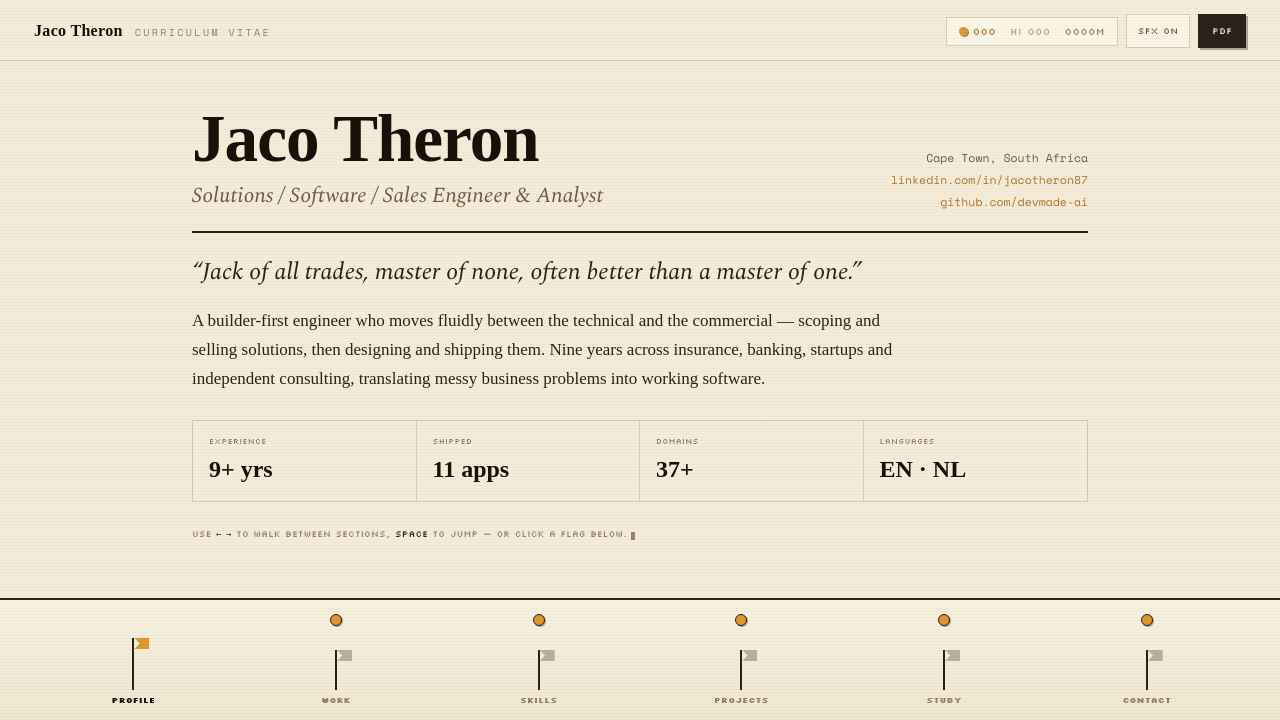
Scenario: LivingCv › game keys never take keystrokes from the contact form › keeps a half-written message when the visitor walks away and comes back
The image size is (1280, 720).
Click the button "Contact". click: x=1147, y=670
box: [1045,650,1248,690]
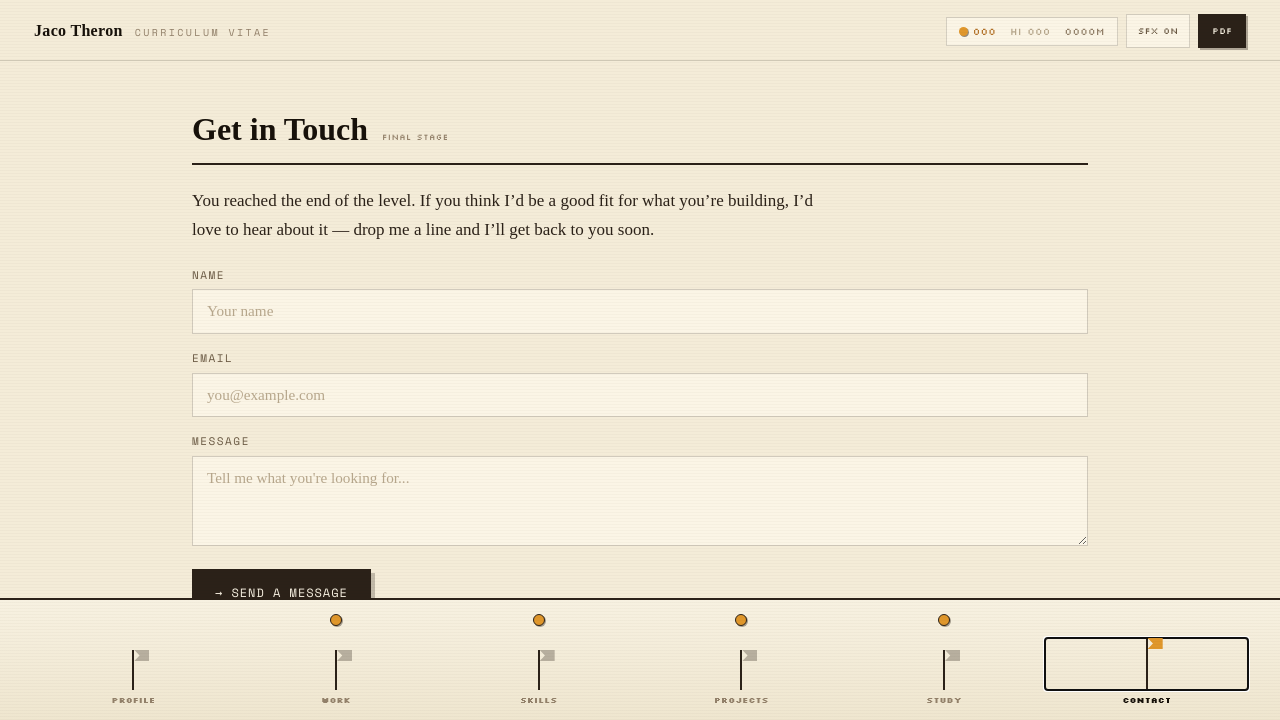
Type "Half a thought" into the text box labelled "Message". click: x=640, y=501
box: [192,456,1088,546]
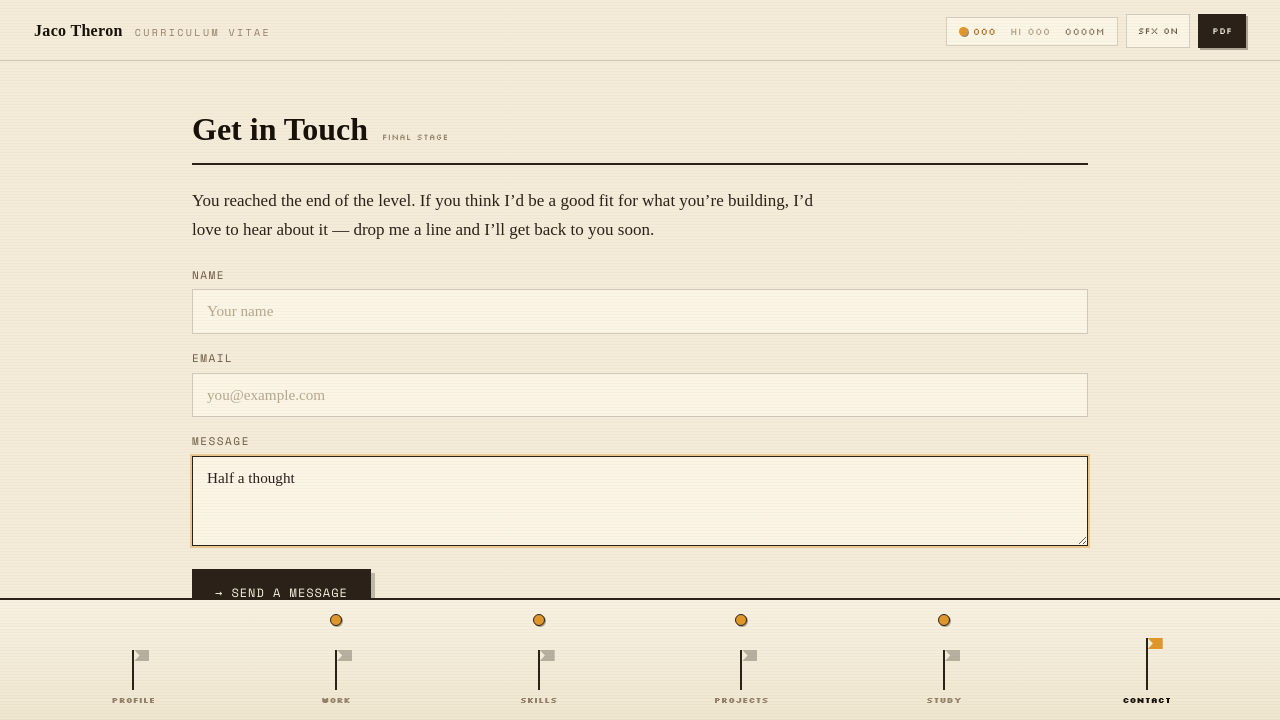
Click the button "Work". click: x=336, y=670
box: [235,650,437,690]
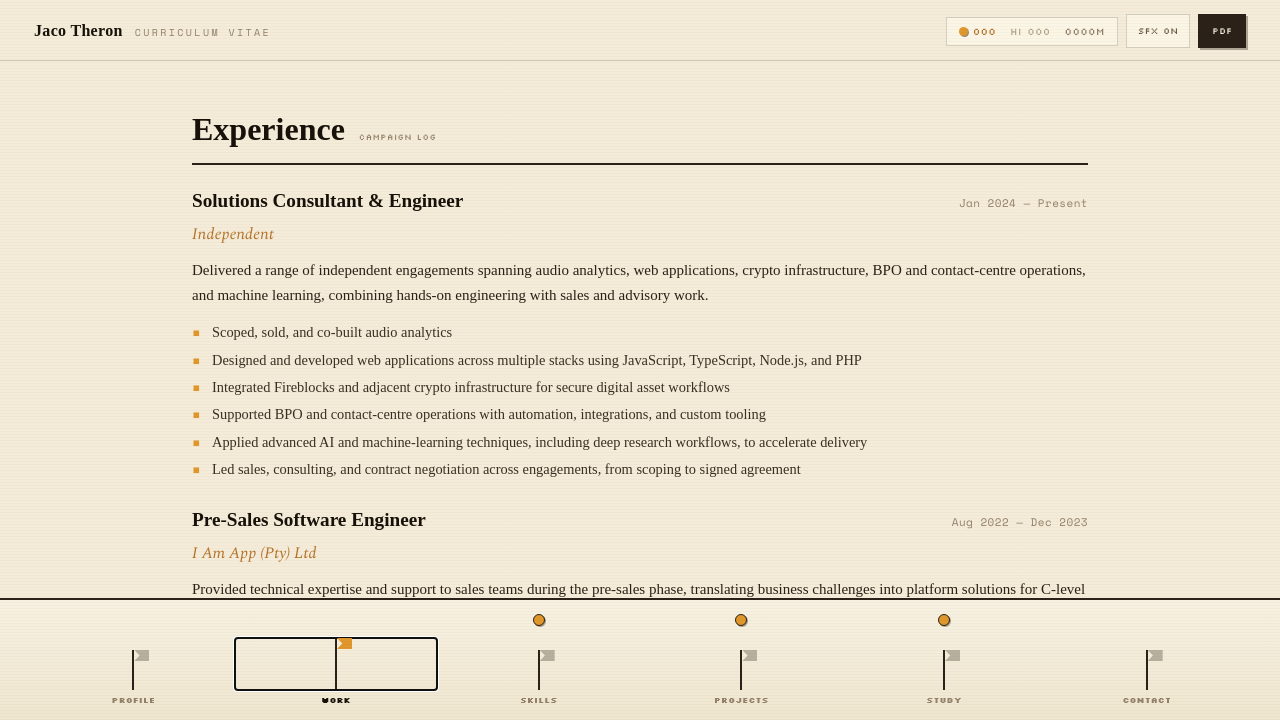
Expected: the label labelled "Message" is gone
Click the button "Contact". click: x=1147, y=670
box: [1045,650,1248,690]
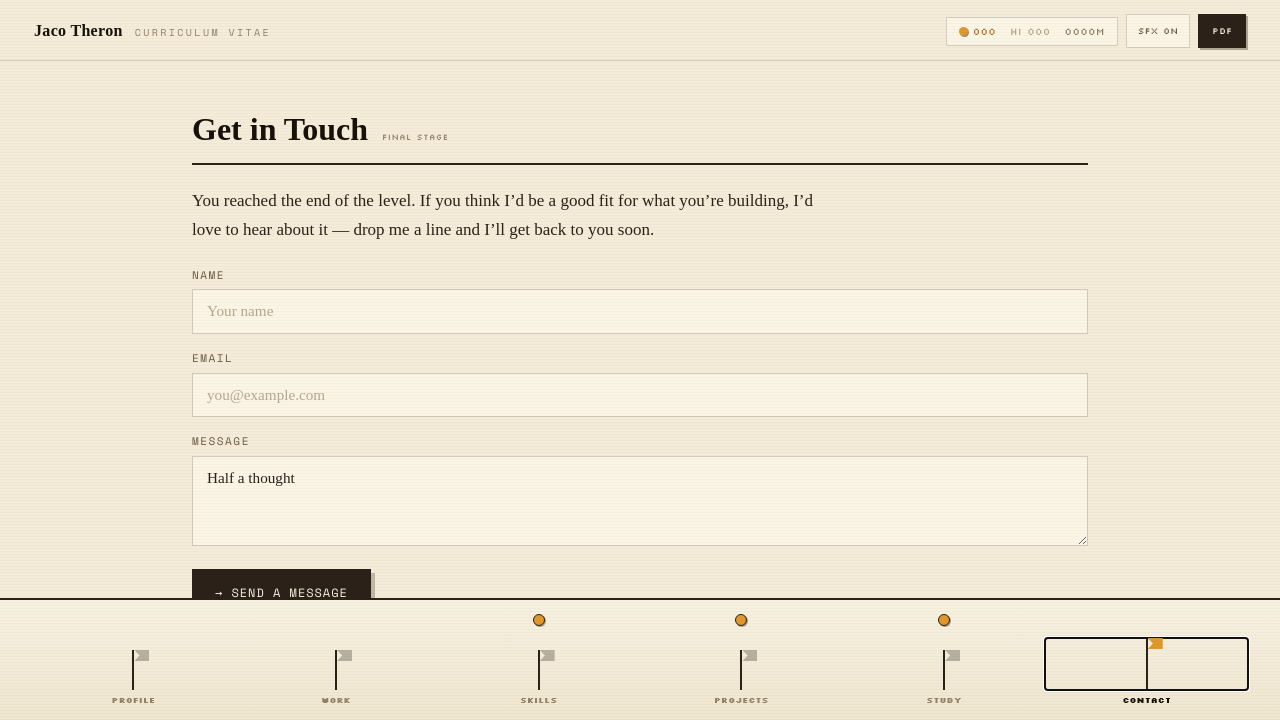
Expected: the text box labelled "Message" holds "Half a thought", [192,456,1088,546]
